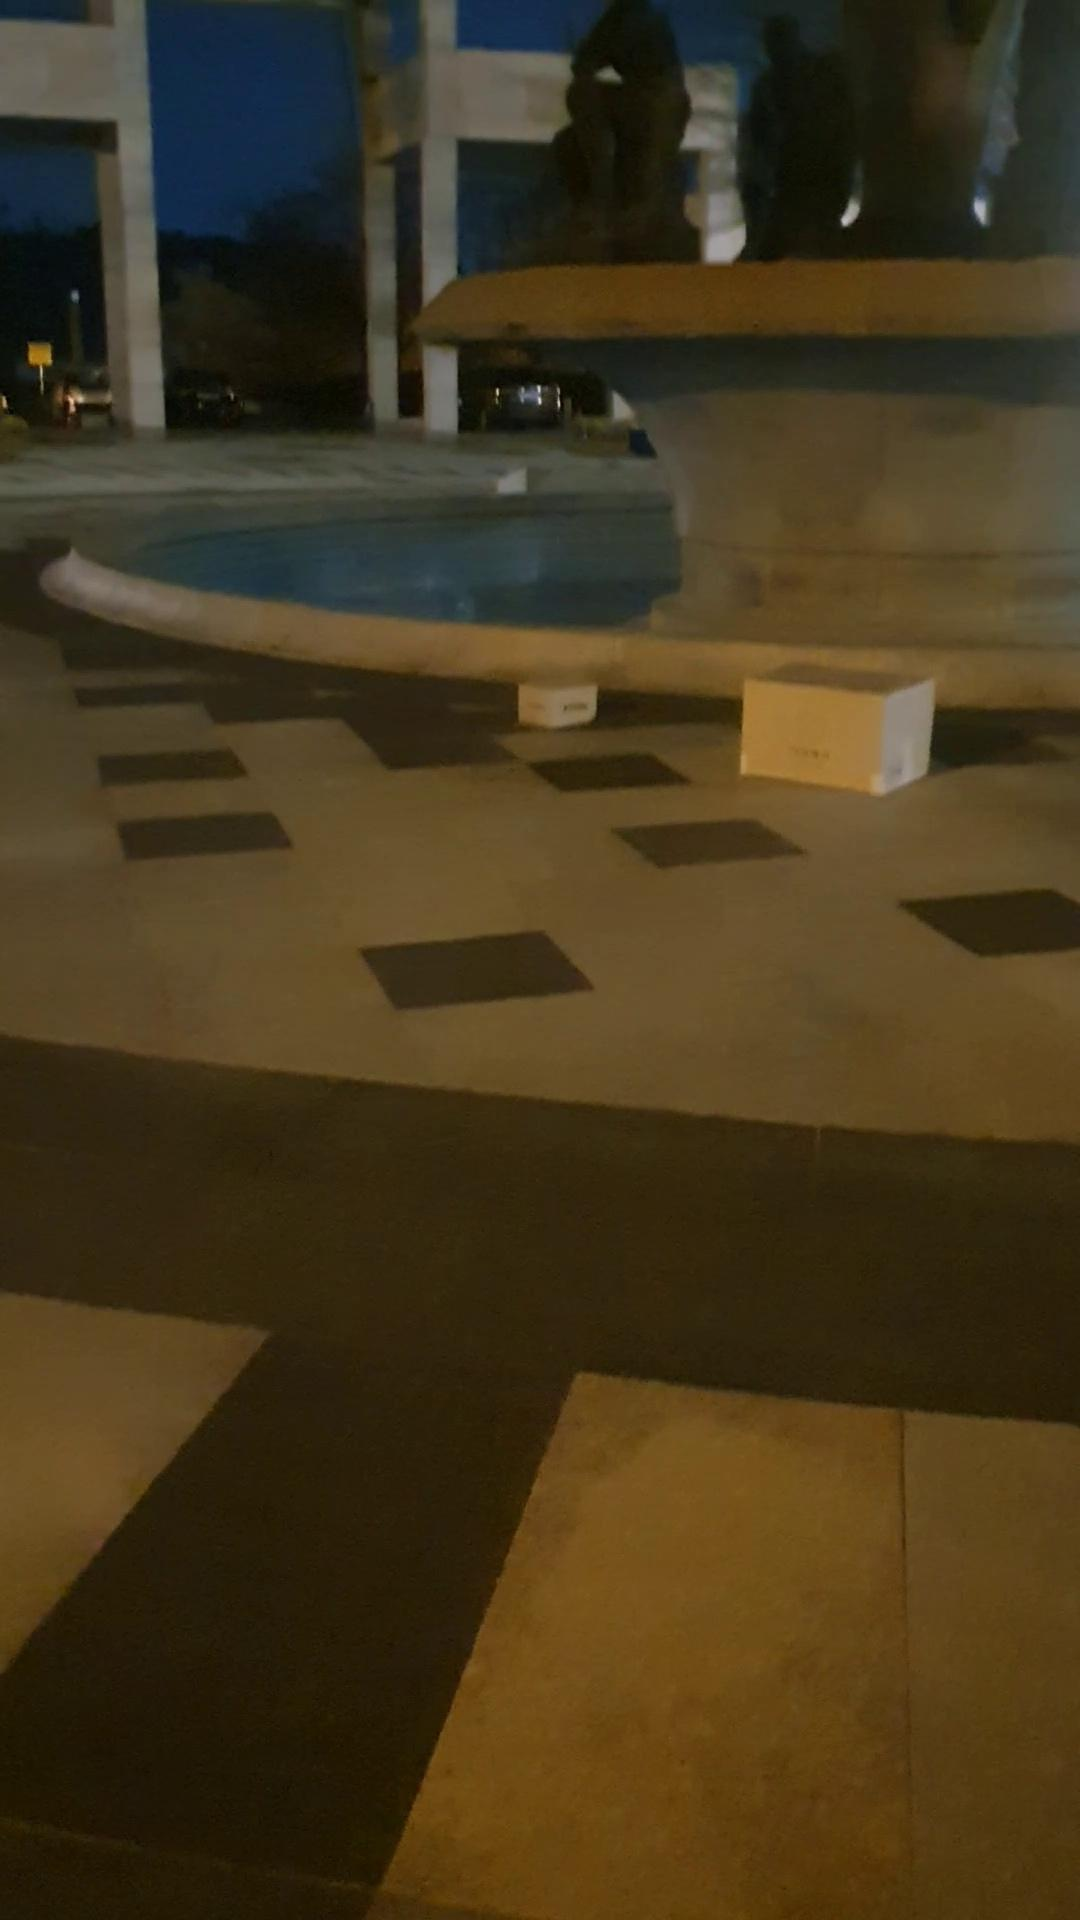Box: (731, 647, 942, 803), (506, 655, 600, 735)
